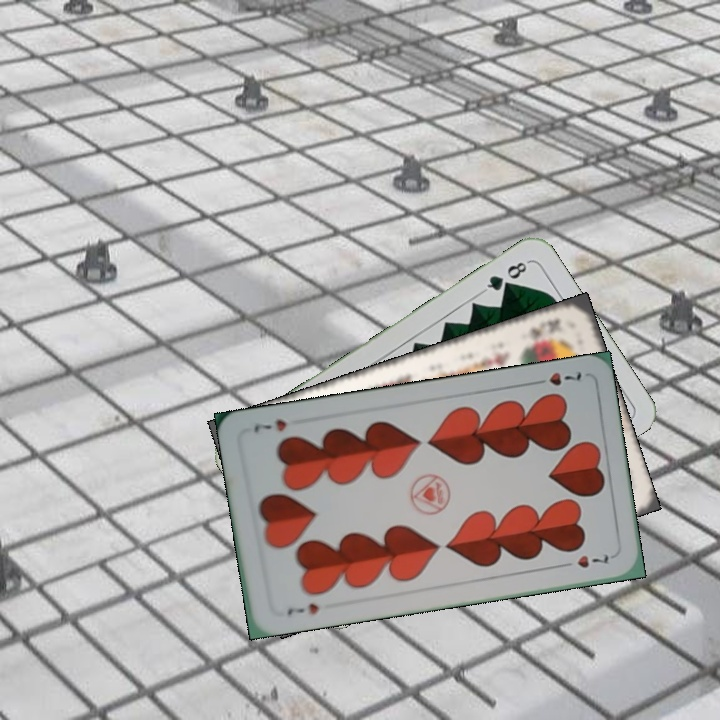G8: (479, 257, 532, 295)
H7: (528, 367, 584, 389), (283, 599, 321, 618)
SK: (526, 315, 565, 341)
